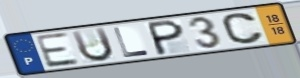3: (187, 15, 225, 50)
C: (220, 12, 266, 46)
E: (33, 31, 83, 69)
L: (111, 26, 153, 59)
P: (147, 18, 186, 57)
U: (68, 26, 116, 64)
